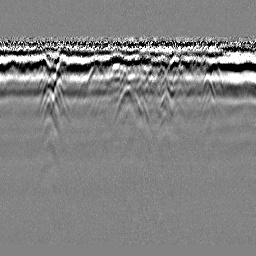cavity: (112, 81, 143, 124)
